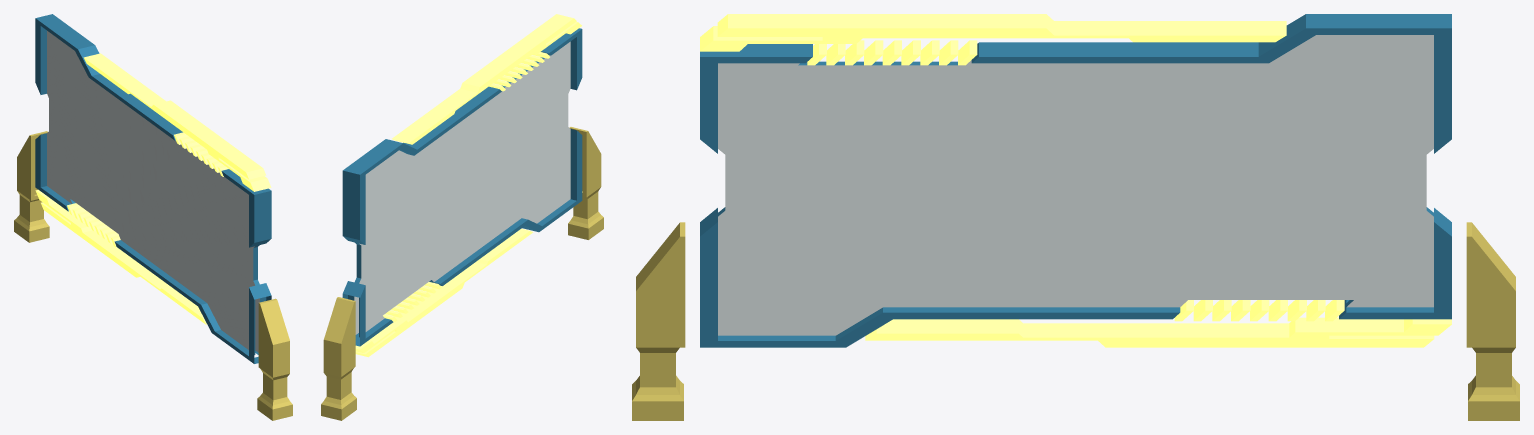
The model's file is Artefak Poster Landscape BEN VR GBL & GBL.fbx.
3 renders of one model, left to right at view 1: azimuth 30°, elevation 25°; view 2: azimuth 150°, elevation 25°; view 3: azimuth 270°, elevation 25°, orthographic. The views are drawn at different scales.
Visible parts, largest first — view 1: Poster_Landscape1; view 2: Poster_Landscape1; view 3: Poster_Landscape1.
Part boxes in pixels (x1=…): Poster_Landscape1: x1=14, y1=14, x2=292, y2=420; Poster_Landscape1: x1=321, y1=14, x2=603, y2=420; Poster_Landscape1: x1=632, y1=14, x2=1519, y2=420.
Size of the model in its own units: 47.19 by 505 by 1039.
